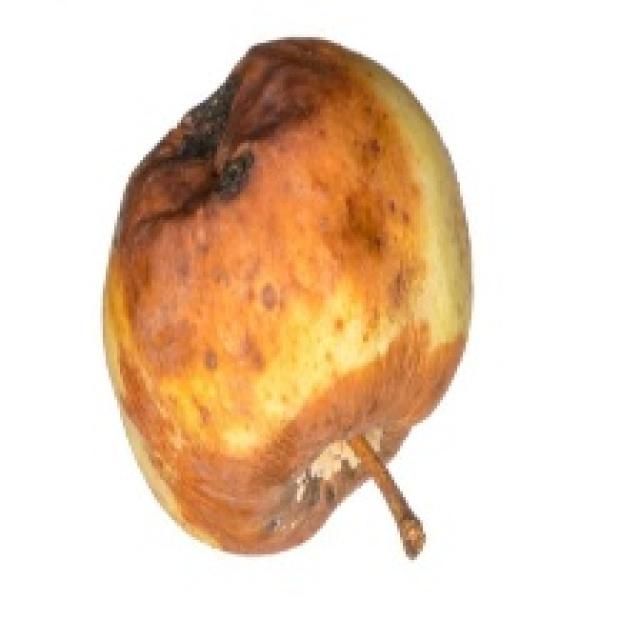rotten_apple: (109, 41, 464, 544)
